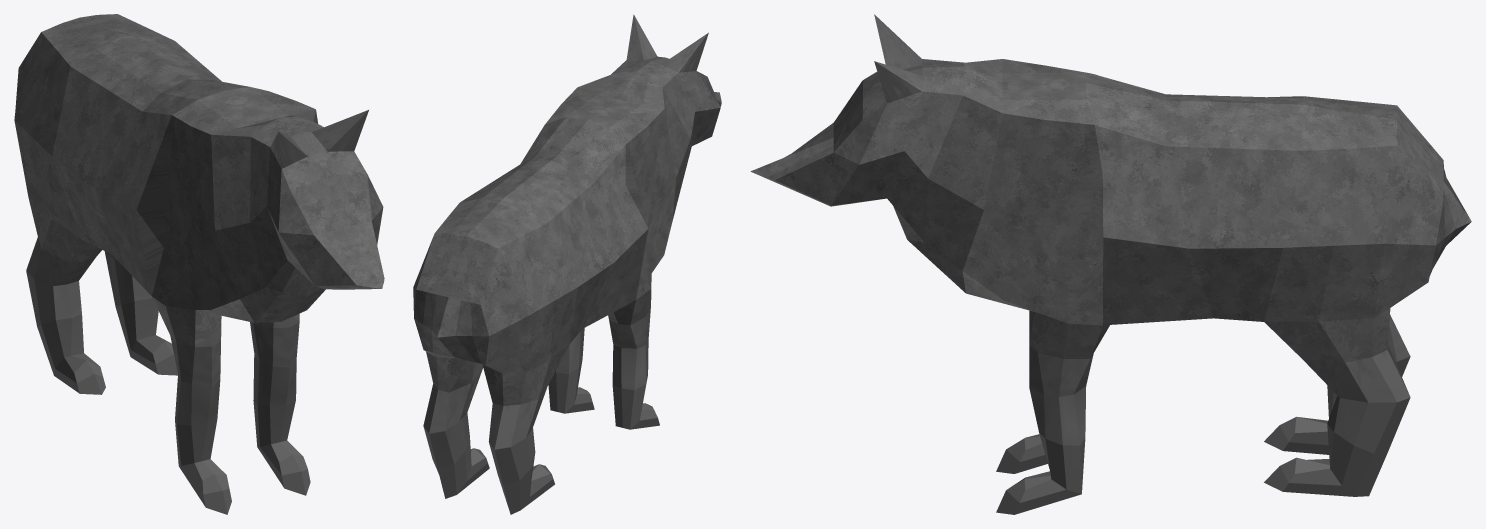
File: piesblend_000036.obj
3 views of the same model, side by side, from view 1: azimuth 30°, elevation 25°; view 2: azimuth 150°, elevation 25°; view 3: azimuth 270°, elevation 25° (orthographic). The views are drawn at different scales.
Visible parts, largest first — view 1: Cube; view 2: Cube; view 3: Cube.
Boxes of the visible parts, x1,y1,x2,y2 form: Cube: (14, 14, 384, 514); Cube: (413, 14, 721, 514); Cube: (750, 14, 1471, 514).
Size of the model in its own units: 2.56 by 6.51 by 9.36.
1 material, 1 textured.
